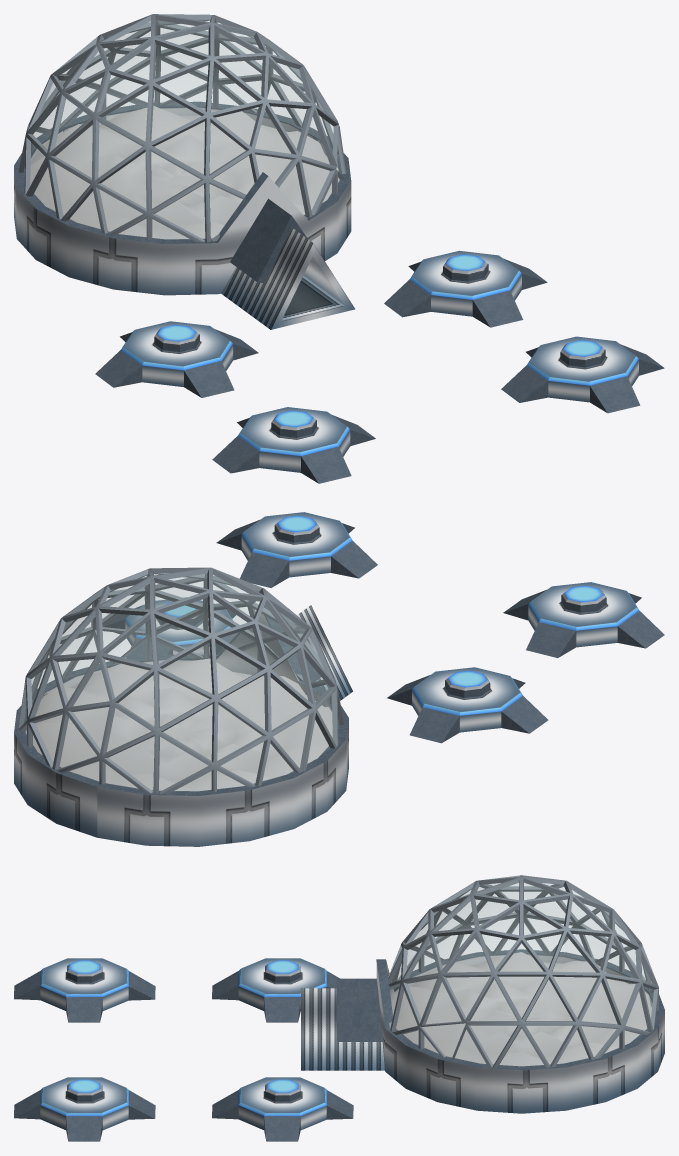
Rendered from FSR.fbx.
3 renders of one model, top to bottom at view 1: azimuth 30°, elevation 25°; view 2: azimuth 150°, elevation 25°; view 3: azimuth 270°, elevation 25°, orthographic. The views are drawn at different scales.
Visible parts, largest first — view 1: Glass, Net_Frame, Plants, Base1, Tank_3, Tank_1, Tank_2, Tank_4, Gate1, Extra; view 2: Glass, Net_Frame, Base1, Plants, Tank_3, Tank_1, Tank_4, Tank_2, Gate1; view 3: Glass, Net_Frame, Plants, Base1, Tank_3, Tank_2, Tank_4, Tank_1, Gate1, Extra.
Part boxes in pixels (x1,y1,x2,y2): Glass: [31, 20, 341, 239]; Net_Frame: [18, 14, 346, 242]; Plants: [30, 105, 339, 239]; Base1: [14, 101, 351, 295]; Tank_3: [212, 407, 375, 483]; Tank_1: [95, 321, 258, 397]; Tank_2: [384, 250, 547, 327]; Tank_4: [501, 336, 664, 413]; Gate1: [221, 227, 354, 329]; Extra: [230, 198, 307, 283]; Glass: [24, 573, 331, 791]; Net_Frame: [18, 567, 344, 794]; Base1: [14, 605, 348, 846]; Plants: [26, 658, 332, 791]; Tank_3: [503, 582, 664, 657]; Tank_1: [387, 667, 548, 743]; Tank_4: [216, 512, 377, 587]; Tank_2: [103, 597, 238, 658]; Gate1: [297, 605, 352, 700]; Glass: [390, 883, 653, 1065]; Net_Frame: [388, 875, 658, 1067]; Plants: [391, 952, 651, 1066]; Base1: [376, 949, 664, 1113]; Tank_3: [14, 958, 155, 1022]; Tank_2: [212, 1077, 353, 1141]; Tank_4: [14, 1077, 155, 1141]; Tank_1: [212, 958, 339, 1022]; Gate1: [301, 988, 384, 1070]; Extra: [337, 978, 383, 1041].
Size of what is drawn, in the model's own units: 8.86 by 3.79 by 13.63.
